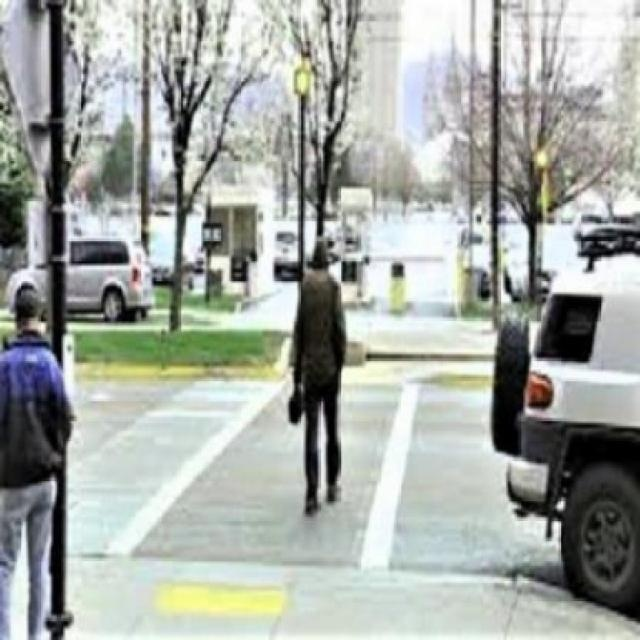obstacle: (0, 271, 71, 638), (271, 232, 354, 519)
